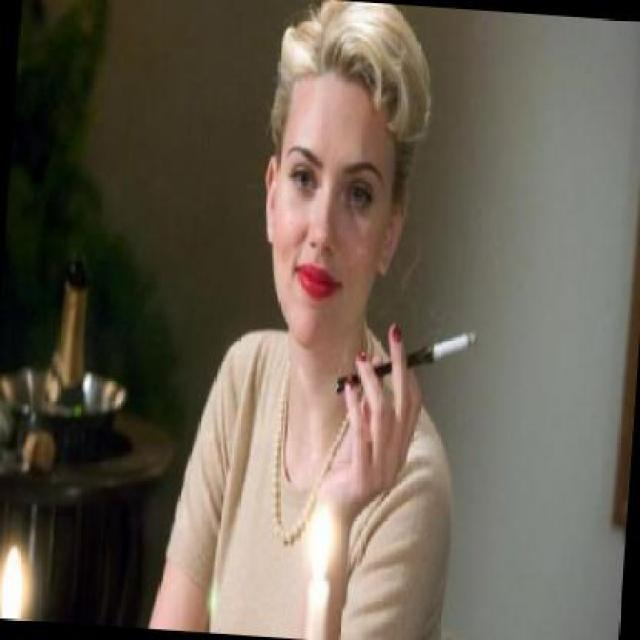smoke: (429, 326, 480, 368)
